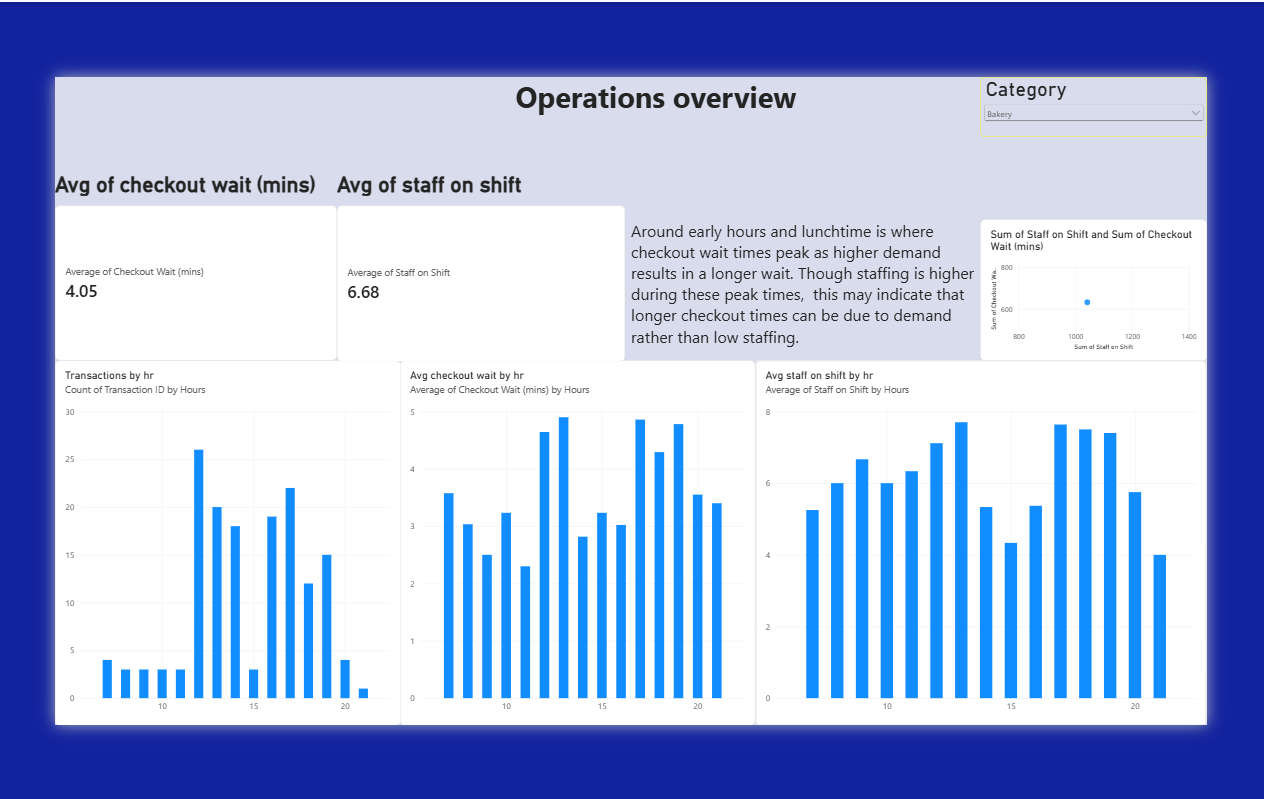

Layout of this report page (visuals, bound fields, positions):
{"tool":"powerbi","page":{"name":"Operations","canvas":[1920,1080],"ordinal":1},"visuals":[{"type":"clusteredColumnChart","title":"Avg checkout wait by hr","fields":{"Category":["RetailTransactions.Hours"],"Y":["Avg(RetailTransactions.Checkout Wait (mins))"]},"box":[575.7,473,591.9,608.1],"z":0},{"type":"clusteredColumnChart","title":"Avg staff on shift by hr","fields":{"Category":["RetailTransactions.Hours"],"Y":["Avg(RetailTransactions.Staff on Shift)"]},"box":[1167.6,473,751.4,608.1],"z":1},{"type":"clusteredColumnChart","title":"Transactions by hr","fields":{"Category":["RetailTransactions.Hours"],"Y":["CountNonNull(RetailTransactions.Transaction ID)"]},"box":[0,473,575.7,608.1],"z":2},{"type":"cardVisual","title":"Avg of checkout wait (mins)","fields":{"Data":["Avg(RetailTransactions.Checkout Wait (mins))"]},"box":[0,157.5,470,315],"z":3},{"type":"cardVisual","title":"Avg of staff on shift","fields":{"Data":["Avg(RetailTransactions.Staff on Shift)"]},"box":[470,157.5,480,317.5],"z":4},{"type":"textbox","box":[100,100,300,300],"z":5},{"type":"textbox","box":[100,100,300,300],"z":6},{"type":"textbox","box":[100,100,300,300],"z":7},{"type":"textbox","box":[100,100,300,300],"z":8},{"type":"textbox","box":[100,100,300,300],"z":9},{"type":"textbox","box":[100,100,300,300],"z":11},{"type":"textbox","box":[100,100,300,300],"z":12},{"type":"textbox","box":[100,100,300,300],"z":13},{"type":"textbox","box":[100,100,300,300],"z":14},{"type":"textbox","box":[960,200,582.5,275],"z":15},{"type":"slicer","fields":{"Values":["RetailTransactions.Category"]},"box":[1542.5,0,377.5,100],"z":16},{"type":"textbox","box":[767.5,0,715,317.5],"z":17},{"type":"scatterChart","fields":{"X":["Sum(RetailTransactions.Staff on Shift)"],"Y":["Sum(RetailTransactions.Checkout Wait (mins))"]},"box":[1542.5,237.5,377.5,235],"z":18}]}

Visuals, with their boxes on the page's 1920x1080 design canvas (x1, y1, x2, y2). These are canvas units, not pixel positions in the 1264x799 screenshot, which may show the page scaled, cropped or inside an application window:
"Avg checkout wait by hr" clusteredColumnChart: bbox=(576, 473, 1168, 1081)
"Avg staff on shift by hr" clusteredColumnChart: bbox=(1168, 473, 1919, 1081)
"Transactions by hr" clusteredColumnChart: bbox=(0, 473, 576, 1081)
"Avg of checkout wait (mins)" cardVisual: bbox=(0, 158, 470, 472)
"Avg of staff on shift" cardVisual: bbox=(470, 158, 950, 475)
textbox: bbox=(100, 100, 400, 400)
textbox: bbox=(100, 100, 400, 400)
textbox: bbox=(100, 100, 400, 400)
textbox: bbox=(100, 100, 400, 400)
textbox: bbox=(100, 100, 400, 400)
textbox: bbox=(100, 100, 400, 400)
textbox: bbox=(100, 100, 400, 400)
textbox: bbox=(100, 100, 400, 400)
textbox: bbox=(100, 100, 400, 400)
textbox: bbox=(960, 200, 1542, 475)
slicer - RetailTransactions.Category: bbox=(1542, 0, 1920, 100)
textbox: bbox=(768, 0, 1482, 318)
scatterChart - Sum(RetailTransactions.Staff on Shift) x Sum(RetailTransactions.Checkout Wait (mins)): bbox=(1542, 238, 1920, 472)
